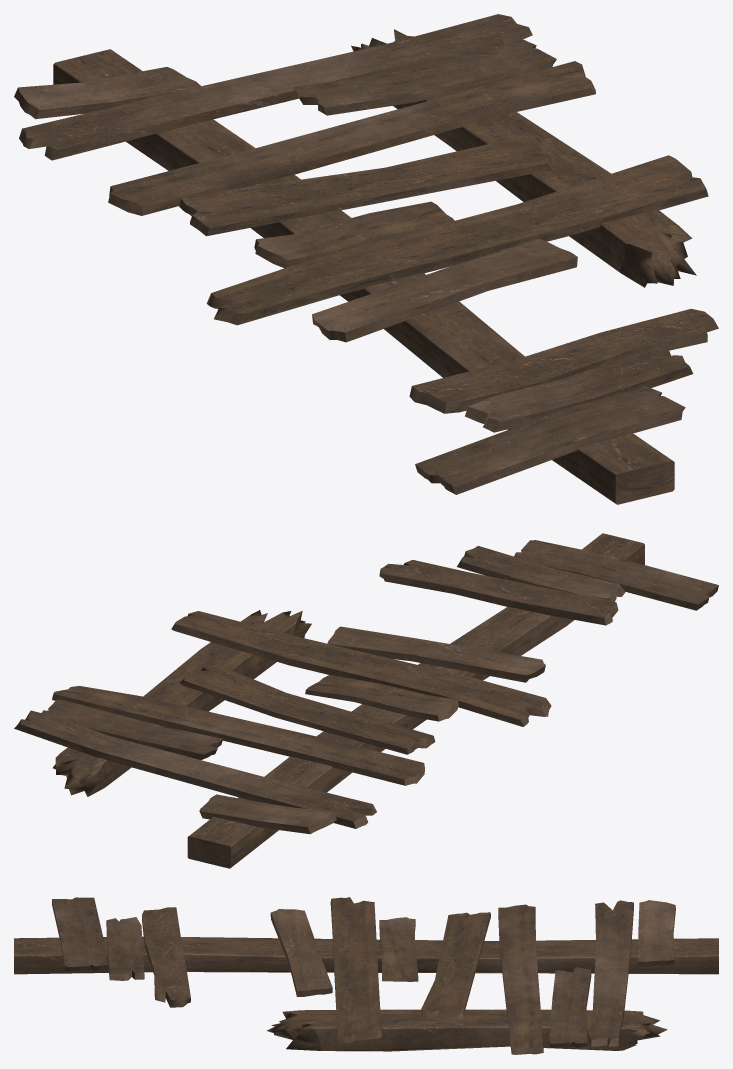
File: SM_Wooden_Floor_Ruined_07.fbx
3 renders of one model, top to bottom at view 1: azimuth 30°, elevation 25°; view 2: azimuth 150°, elevation 25°; view 3: azimuth 270°, elevation 25°, orthographic. The views are drawn at different scales.
Visible parts, largest first — view 1: SM_Wooden_Floor_Ruined_07_LOD0; view 2: SM_Wooden_Floor_Ruined_07_LOD0; view 3: SM_Wooden_Floor_Ruined_07_LOD0.
Boxes of the visible parts, x1,y1,x2,y2 form: SM_Wooden_Floor_Ruined_07_LOD0: (14,14,718,504); SM_Wooden_Floor_Ruined_07_LOD0: (14,533,718,868); SM_Wooden_Floor_Ruined_07_LOD0: (14,897,718,1054).
Size of what is drawn, in the model's own units: 430 by 45.69 by 800.
